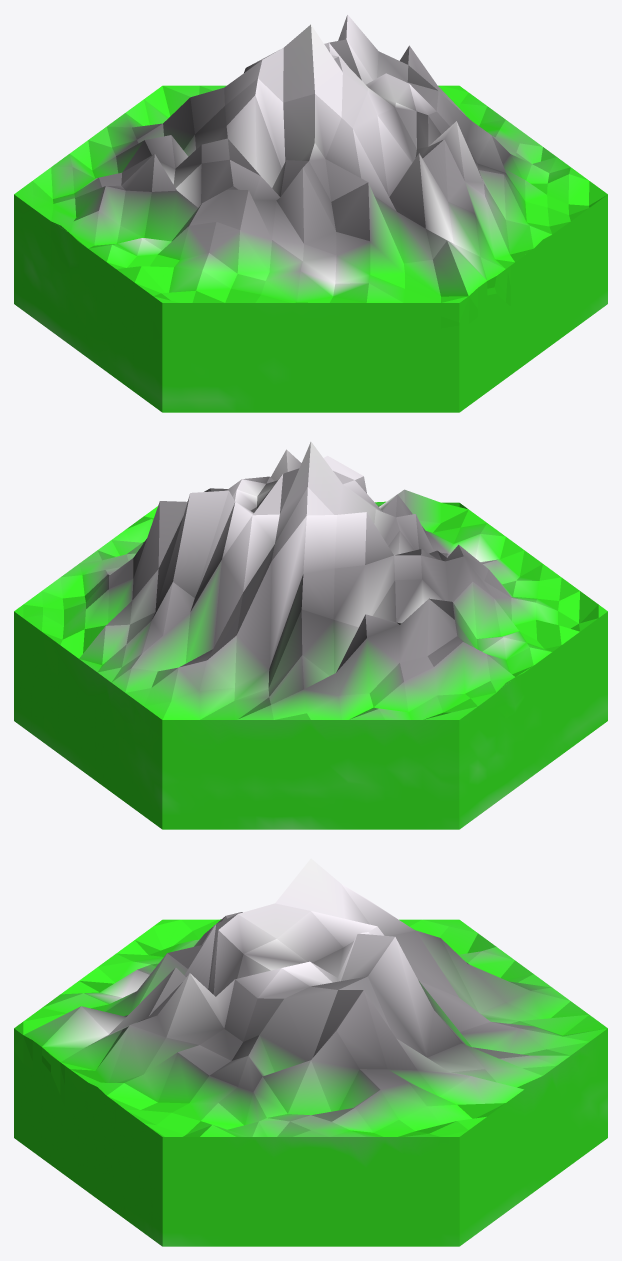
The model's file is Mountain.fbx.
3 renders of one model, top to bottom at view 1: azimuth 30°, elevation 25°; view 2: azimuth 150°, elevation 25°; view 3: azimuth 270°, elevation 25°, orthographic.
Parts seen in each view (by area): view 1: Cylinder, Cylinder.001; view 2: Cylinder, Cylinder.001; view 3: Cylinder, Cylinder.001.
Boxes of the visible parts, x1=… form: Cylinder: x1=14, y1=14, x2=607, y2=302; Cylinder.001: x1=14, y1=194, x2=607, y2=412; Cylinder: x1=14, y1=442, x2=607, y2=719; Cylinder.001: x1=14, y1=502, x2=607, y2=829; Cylinder: x1=23, y1=858, x2=607, y2=1136; Cylinder.001: x1=14, y1=1022, x2=607, y2=1246.
Size of the model in its own units: 173 by 104 by 200.
